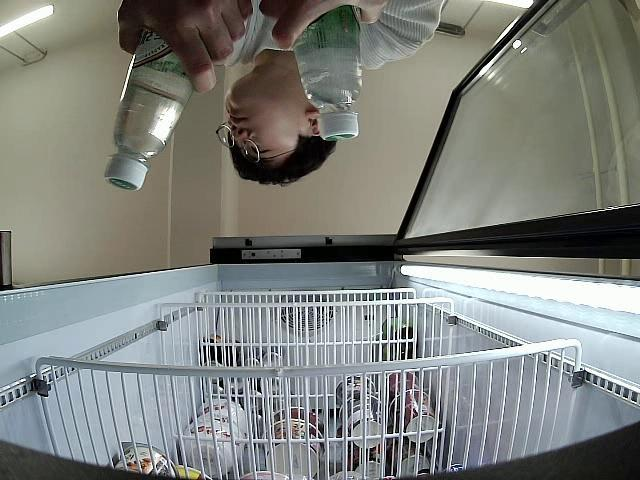18_trevi: (104, 23, 194, 189), (293, 2, 365, 140)
